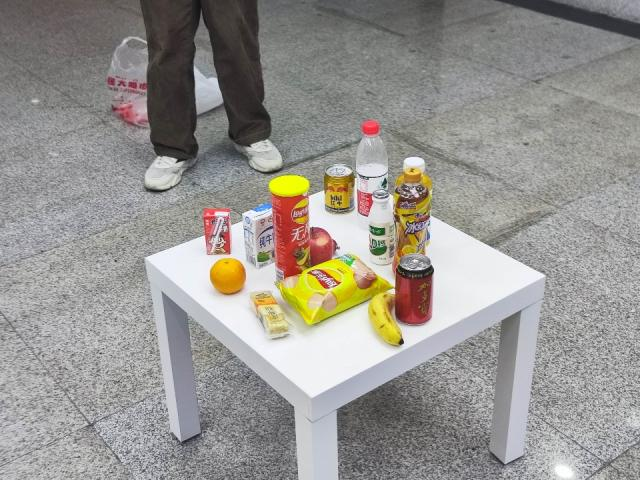Canned_drinks: (395, 252, 435, 324), (324, 165, 355, 210)
bottle: (358, 121, 388, 200), (368, 189, 395, 262)
cylinder: (273, 173, 305, 273)
drink_box: (241, 205, 274, 265), (203, 206, 230, 255)
